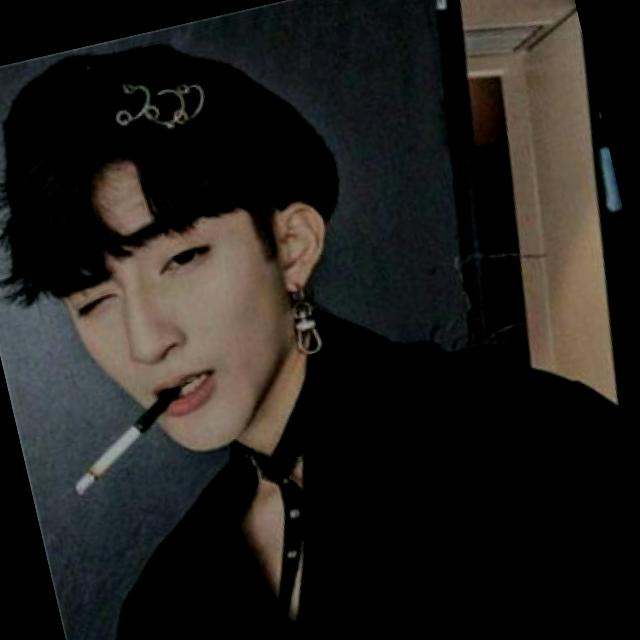smoke: (61, 424, 148, 495)
